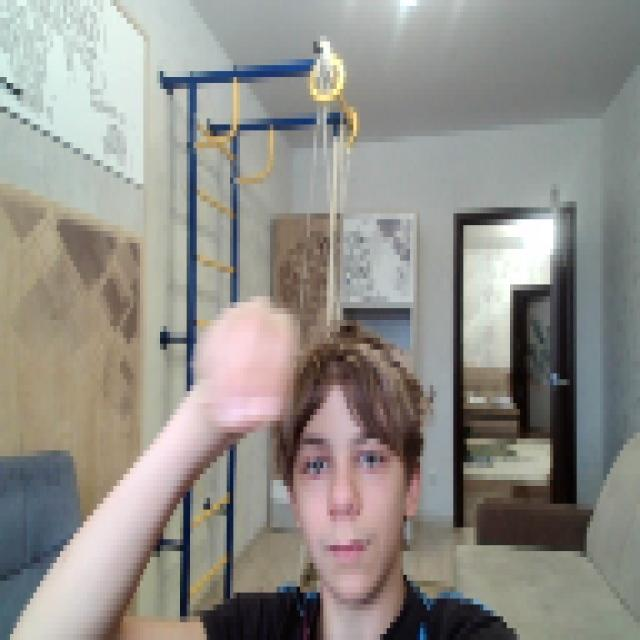left_click: (190, 284, 300, 432)
